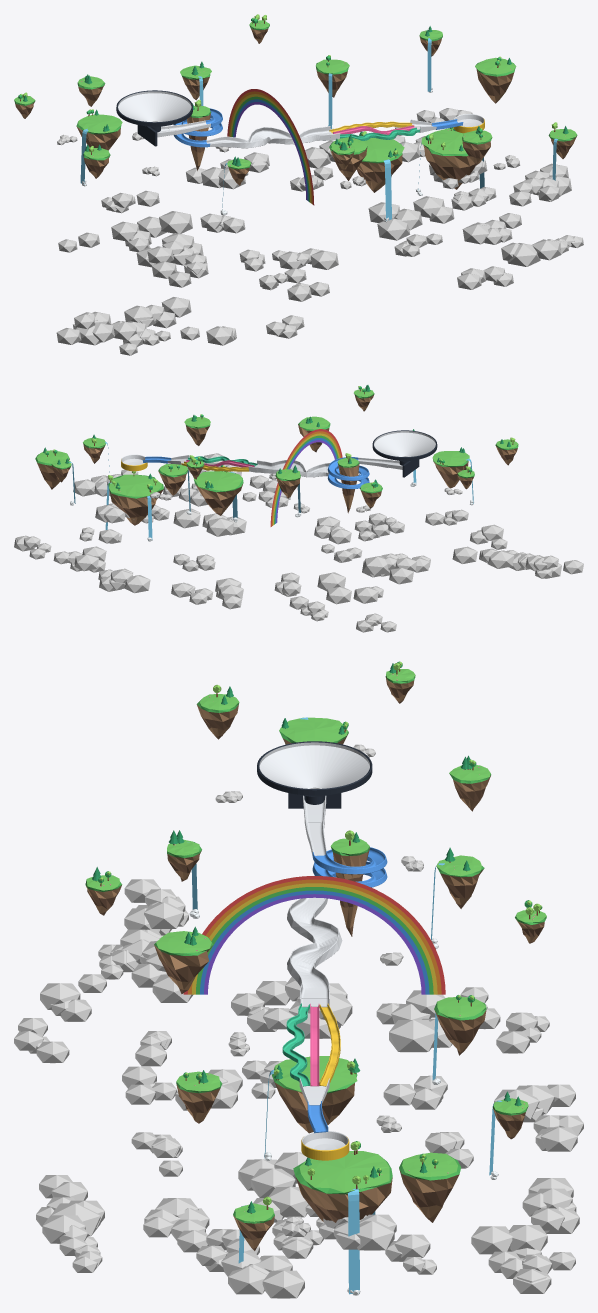
Rendered from sky.glb.
3 renders of one model, top to bottom at view 1: azimuth 30°, elevation 25°; view 2: azimuth 150°, elevation 25°; view 3: azimuth 270°, elevation 25°, orthographic. The views are drawn at different scales.
Parts seen in each view (by area): view 1: D_clouds, D_islands, F_start, D_rainbow, R_T03_wave, R_T02_helix, F_finish, R_T05_laneC; view 2: D_clouds, D_islands, F_start, D_rainbow, R_T02_helix, R_T03_wave, F_finish; view 3: D_clouds, D_islands, D_rainbow, F_start, R_T03_wave, R_T02_helix, F_finish, R_T05_laneC, R_T05_laneA, R_T05_laneB.
Part boxes in pixels (x1=…): D_clouds: x1=56, y1=108, x2=583, y2=355; D_islands: x1=14, y1=14, x2=577, y2=222; F_start: x1=116, y1=90, x2=192, y2=132; D_rainbow: x1=227, y1=89, x2=314, y2=205; R_T03_wave: x1=206, y1=127, x2=331, y2=148; R_T02_helix: x1=173, y1=108, x2=222, y2=147; F_finish: x1=453, y1=114, x2=484, y2=133; R_T05_laneC: x1=340, y1=127, x2=420, y2=140; D_clouds: x1=14, y1=453, x2=583, y2=632; D_islands: x1=35, y1=385, x2=518, y2=541; F_start: x1=372, y1=430, x2=437, y2=465; D_rainbow: x1=270, y1=429, x2=342, y2=526; R_T02_helix: x1=327, y1=457, x2=369, y2=489; R_T03_wave: x1=256, y1=460, x2=358, y2=477; F_finish: x1=121, y1=454, x2=147, y2=471; D_clouds: x1=14, y1=744, x2=583, y2=1298; D_islands: x1=85, y1=661, x2=546, y2=1295; D_rainbow: x1=183, y1=876, x2=445, y2=994; F_start: x1=257, y1=741, x2=372, y2=804; R_T03_wave: x1=287, y1=897, x2=342, y2=998; R_T02_helix: x1=312, y1=847, x2=387, y2=887; F_finish: x1=301, y1=1131, x2=349, y2=1160; R_T05_laneC: x1=282, y1=1003, x2=309, y2=1086; R_T05_laneA: x1=319, y1=1003, x2=340, y2=1086; R_T05_laneB: x1=310, y1=1003, x2=319, y2=1086.
Bounding box in the file's own units: 384 × 135 × 226.
